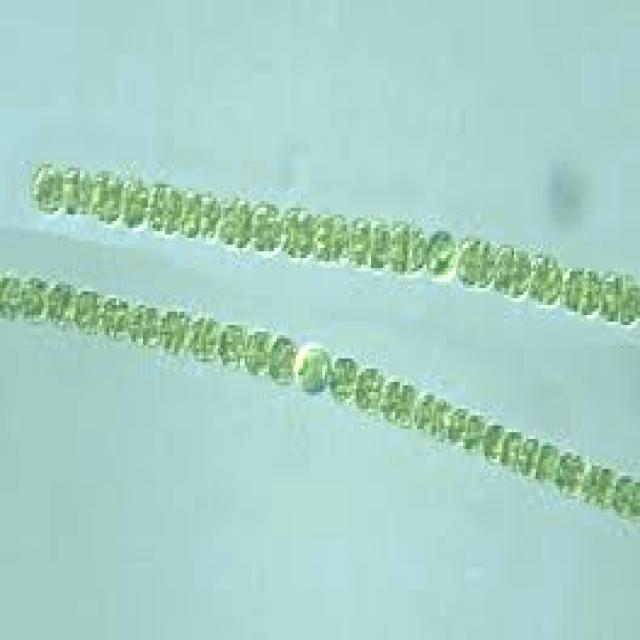Blue Green Algae: (347, 211, 390, 275), (388, 211, 427, 278), (562, 258, 599, 328), (424, 225, 461, 288), (460, 234, 494, 295), (24, 161, 63, 214), (494, 245, 528, 305), (601, 268, 635, 328), (281, 204, 315, 262), (296, 338, 330, 396), (148, 178, 179, 241), (528, 251, 560, 312), (315, 208, 347, 268), (383, 376, 415, 432), (221, 184, 247, 252), (328, 352, 357, 412), (122, 174, 150, 235), (92, 171, 124, 224), (128, 298, 160, 349), (220, 318, 250, 372), (584, 459, 616, 509), (558, 446, 586, 502), (162, 305, 192, 355), (192, 312, 220, 365), (248, 318, 272, 376), (197, 188, 220, 248), (356, 362, 383, 412), (46, 282, 75, 328), (22, 275, 48, 325), (267, 335, 293, 385), (177, 184, 201, 238), (77, 288, 101, 335), (102, 295, 126, 338), (2, 271, 22, 322), (61, 161, 78, 218), (482, 419, 504, 462), (536, 439, 555, 486), (412, 389, 434, 429), (448, 405, 466, 449), (78, 161, 92, 214)
